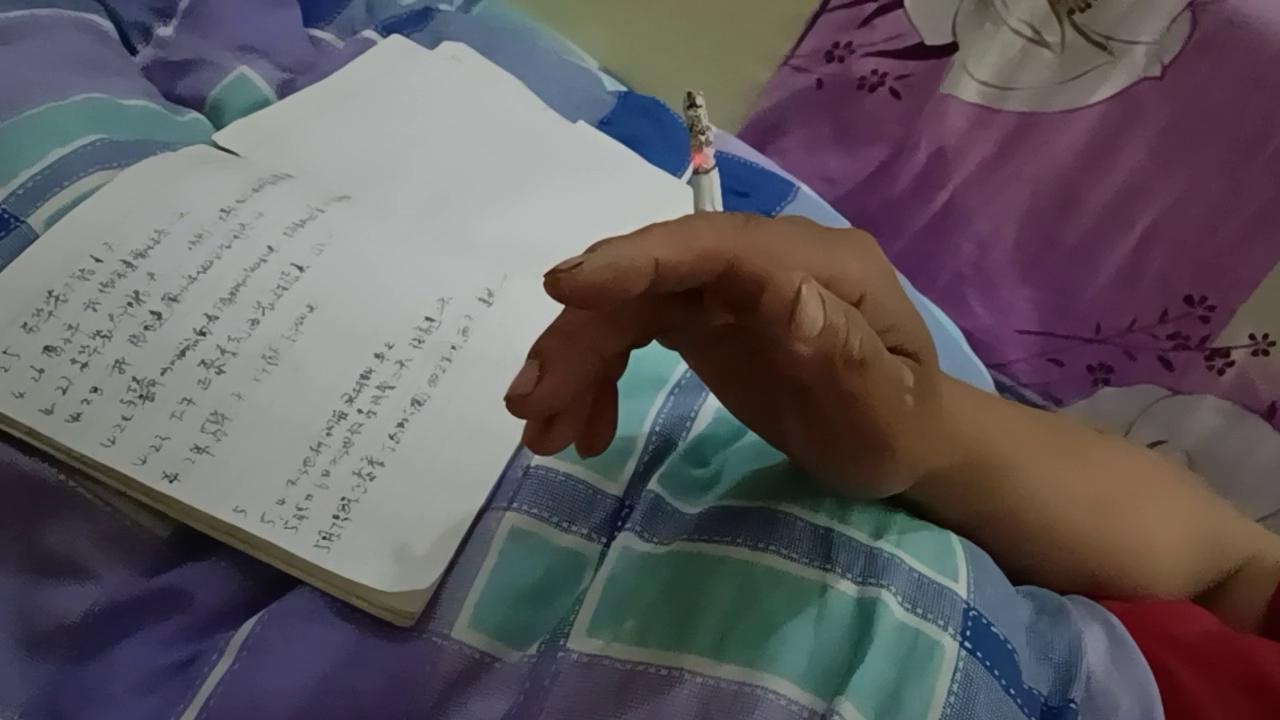smoke: (683, 91, 733, 327)
